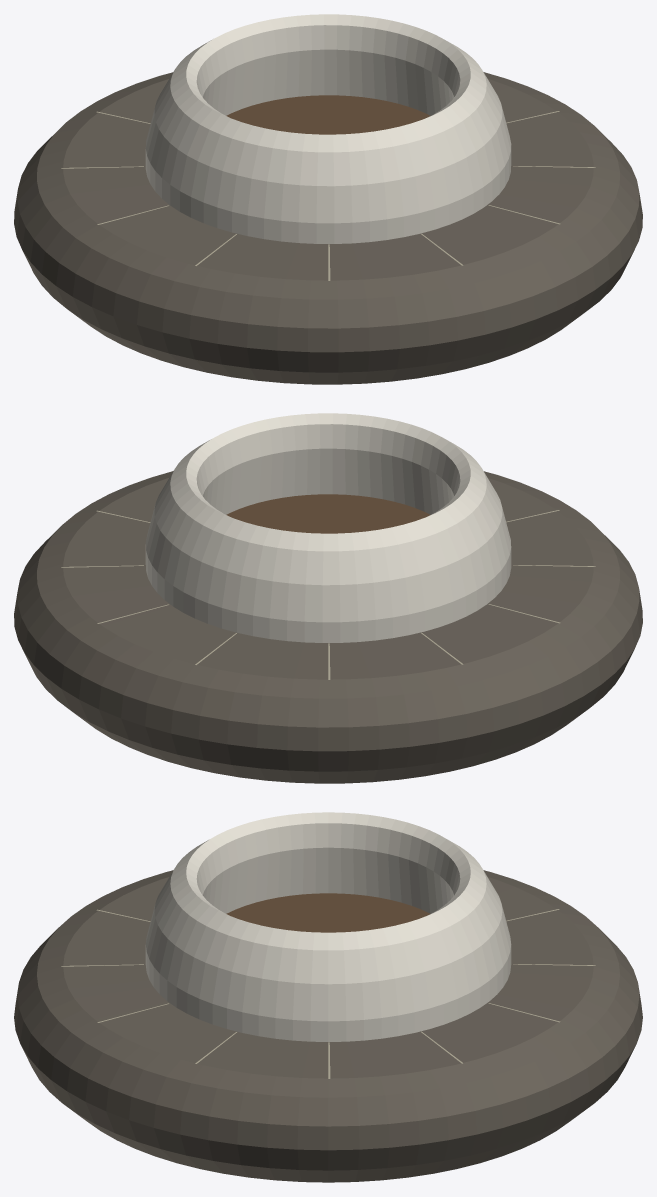
File: studio-planter.glb
The picture shows the model from 3 angles, top to bottom: view 1: azimuth 30°, elevation 25°; view 2: azimuth 150°, elevation 25°; view 3: azimuth 270°, elevation 25°; orthographic projection.
Bounding box in the file's own units: 3.58 × 1.22 × 3.58.
